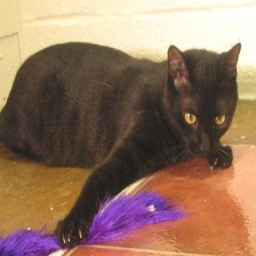cat: (11, 31, 243, 246)
